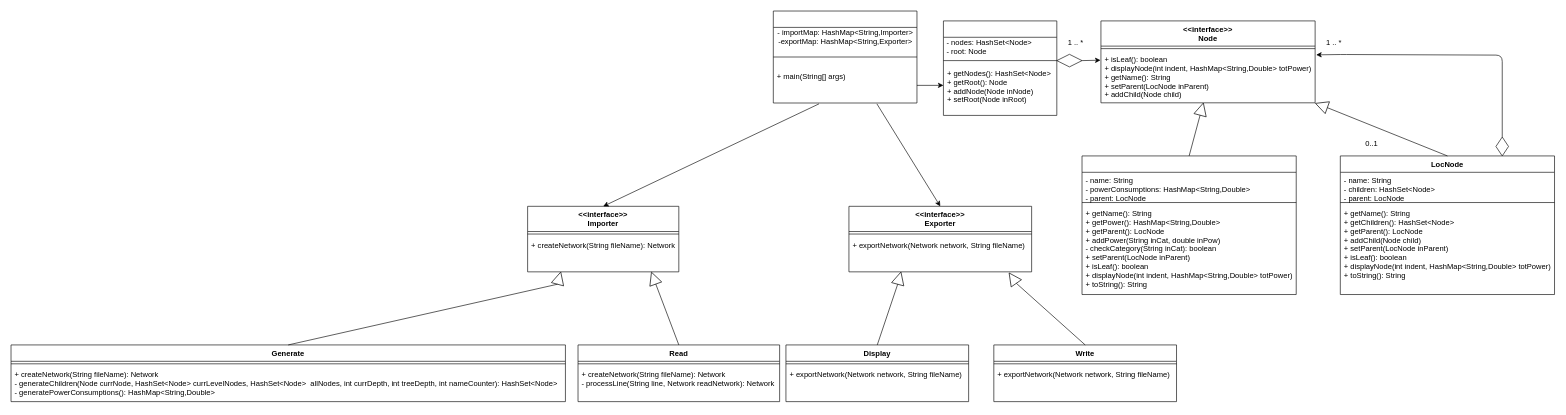
Image size: 1566x415. Some labels were removed from this diagram. The box of each missing label's shape, as (x1, y1, x2, y2) in pixels:
ElectricNetwork: (773, 10, 917, 103)
LeafNode: (1081, 155, 1296, 295)
Network: (943, 20, 1057, 115)
